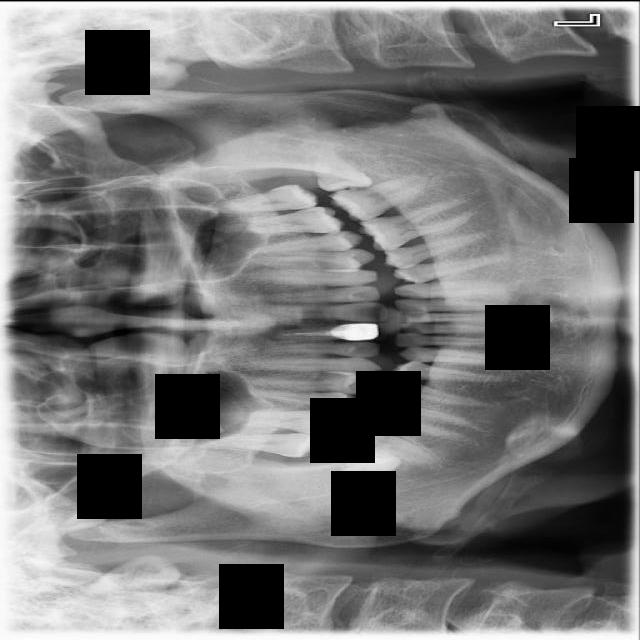52: (331, 321, 380, 341)
73: (269, 324, 338, 339), (564, 55, 574, 60)
BioHorizons Implant: (202, 181, 320, 217)
Biomet 3i Implant: (296, 140, 375, 210)
Blue Sky Bio Implant: (327, 168, 437, 228)
Caries: (196, 432, 321, 459)
Implant: (331, 417, 444, 467)
Keystone Dental Implant: (325, 429, 405, 505)
